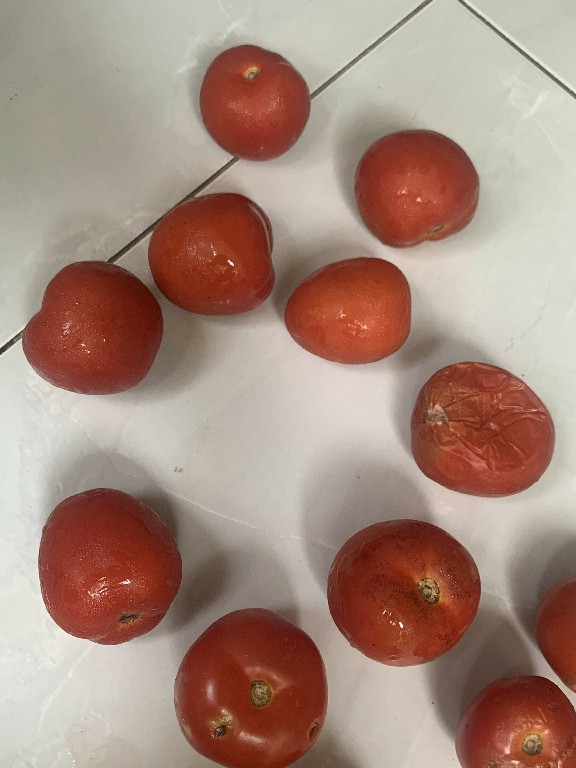NG: (172, 602, 329, 768), (402, 355, 558, 505)
OK: (25, 481, 185, 653), (319, 515, 487, 676), (11, 257, 168, 404), (147, 187, 281, 325), (195, 41, 323, 169), (352, 125, 481, 252), (281, 252, 418, 367)
